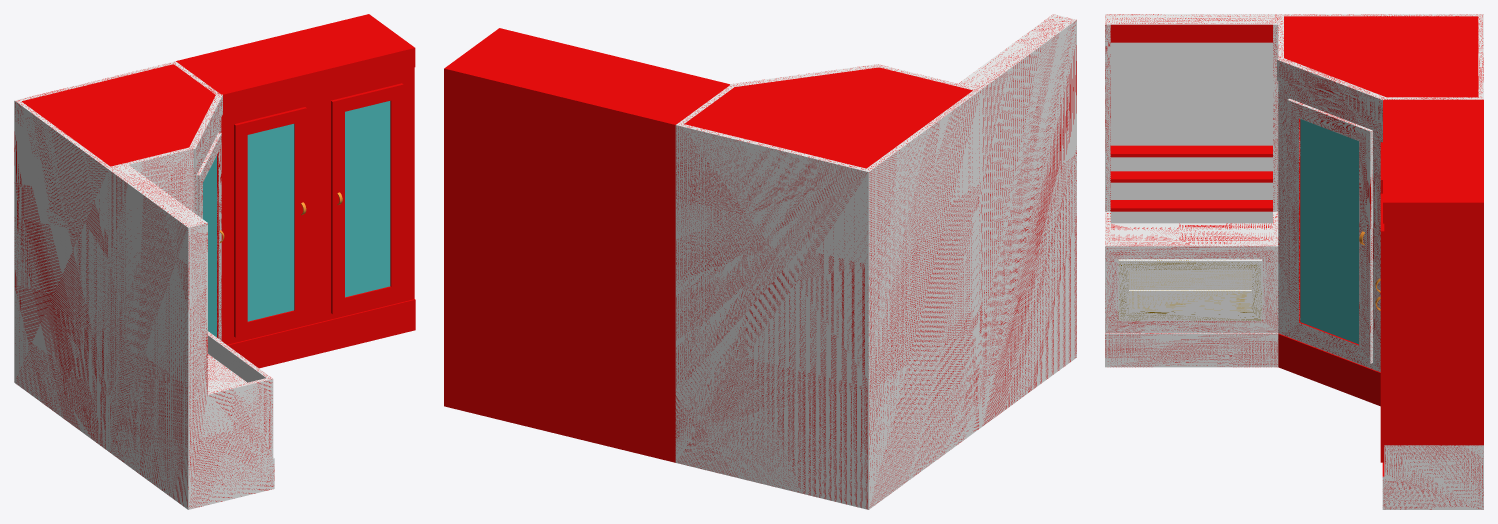
The model's file is FrozenShelves_1.dae.
The picture shows the model from 3 angles, left to right: view 1: azimuth 30°, elevation 25°; view 2: azimuth 150°, elevation 25°; view 3: azimuth 270°, elevation 25°; orthographic projection. The views are drawn at different scales.
Visible parts, largest first — view 1: SketchUp (×8); view 2: SketchUp (×3); view 3: SketchUp (×9).
Part boxes in pixels (left/top/right/bottom): SketchUp (×8): left=14, top=14, right=415, bottom=509; SketchUp (×3): left=444, top=14, right=1076, bottom=509; SketchUp (×9): left=1105, top=14, right=1483, bottom=509.
Size of the model in its own units: 121 by 103 by 92.
